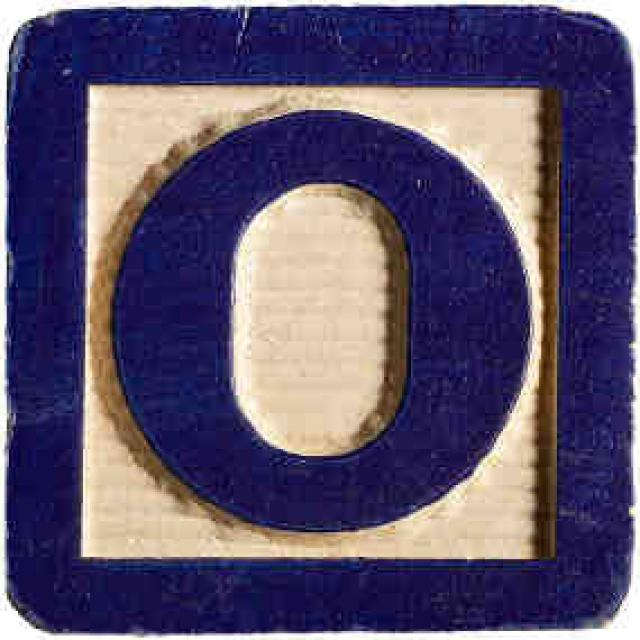O: (91, 94, 554, 558)
